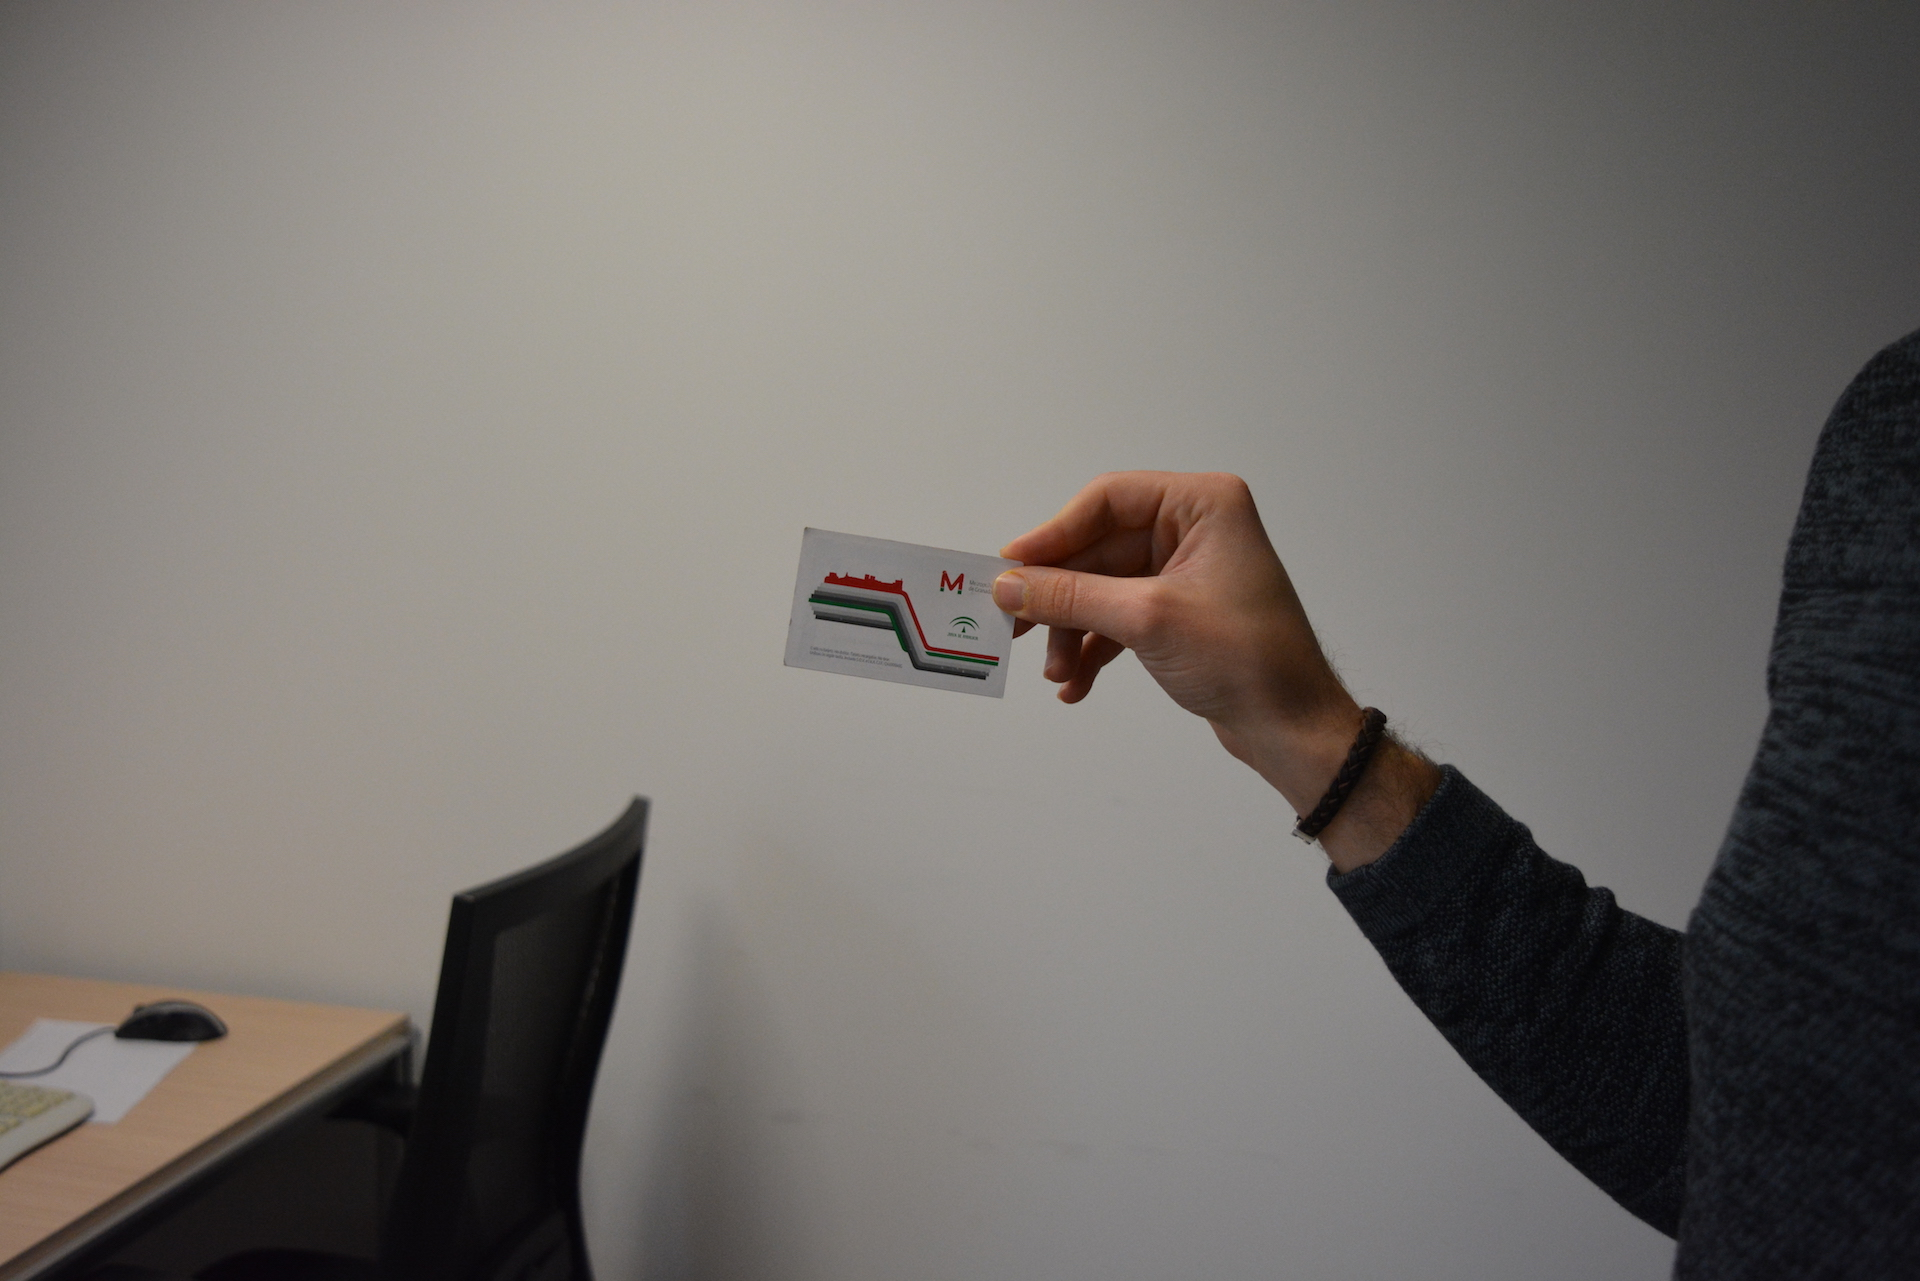tarjeta: (782, 526, 1026, 701)
